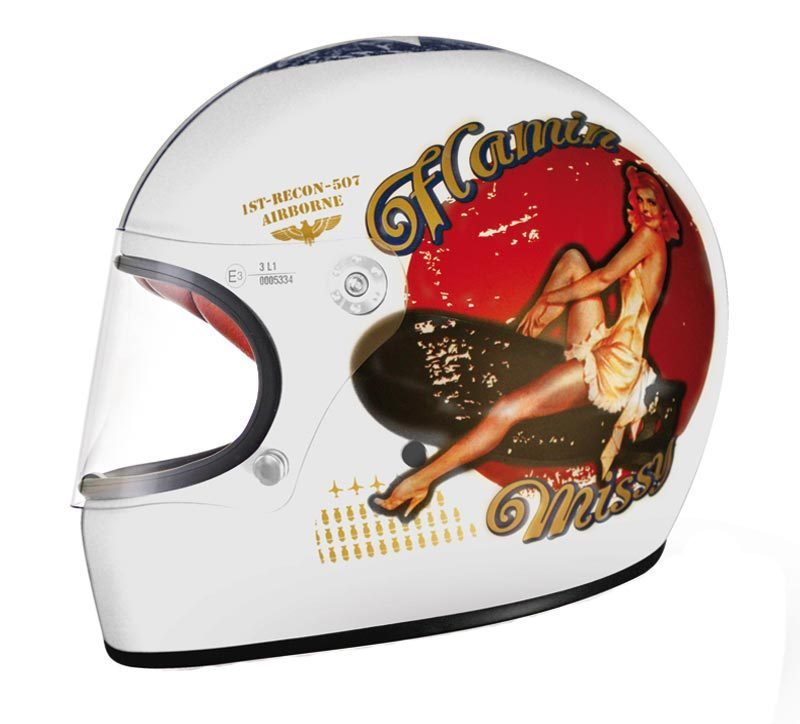with_helmet: (65, 22, 736, 679)
